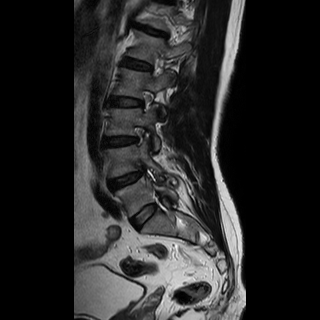RFS0: (126, 118, 156, 153), (146, 47, 175, 81), (133, 83, 158, 116)
